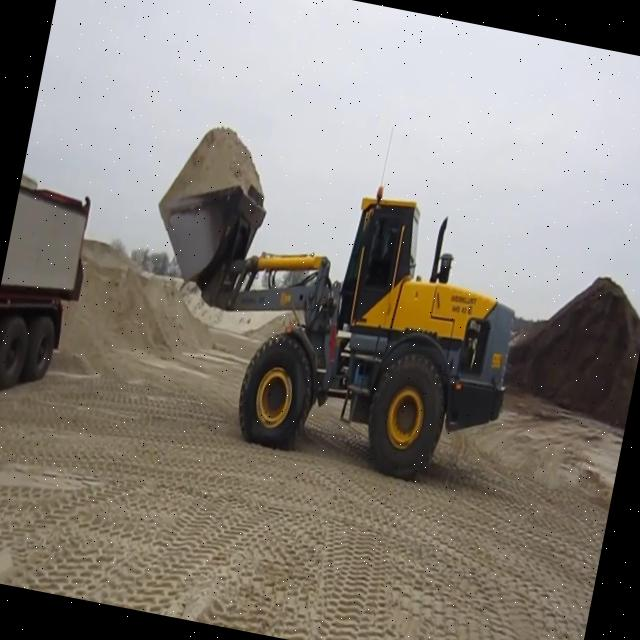Dump Truck: (0, 177, 100, 415)
Loader: (114, 114, 546, 497)
